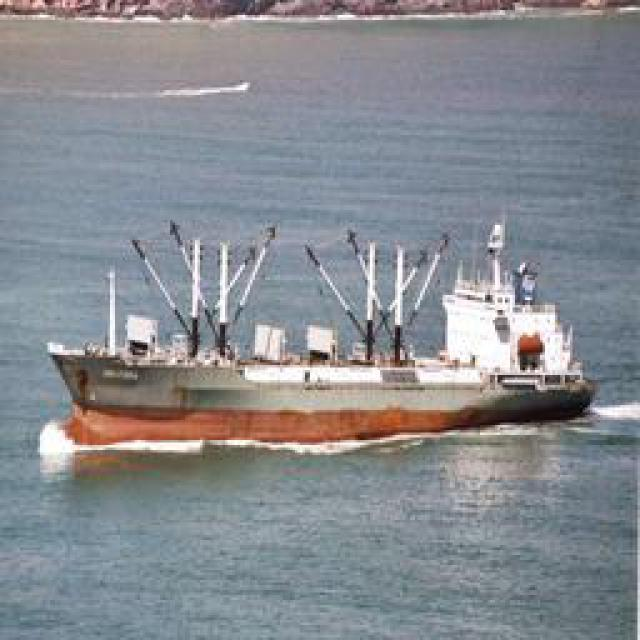Ship: (37, 206, 615, 454)
